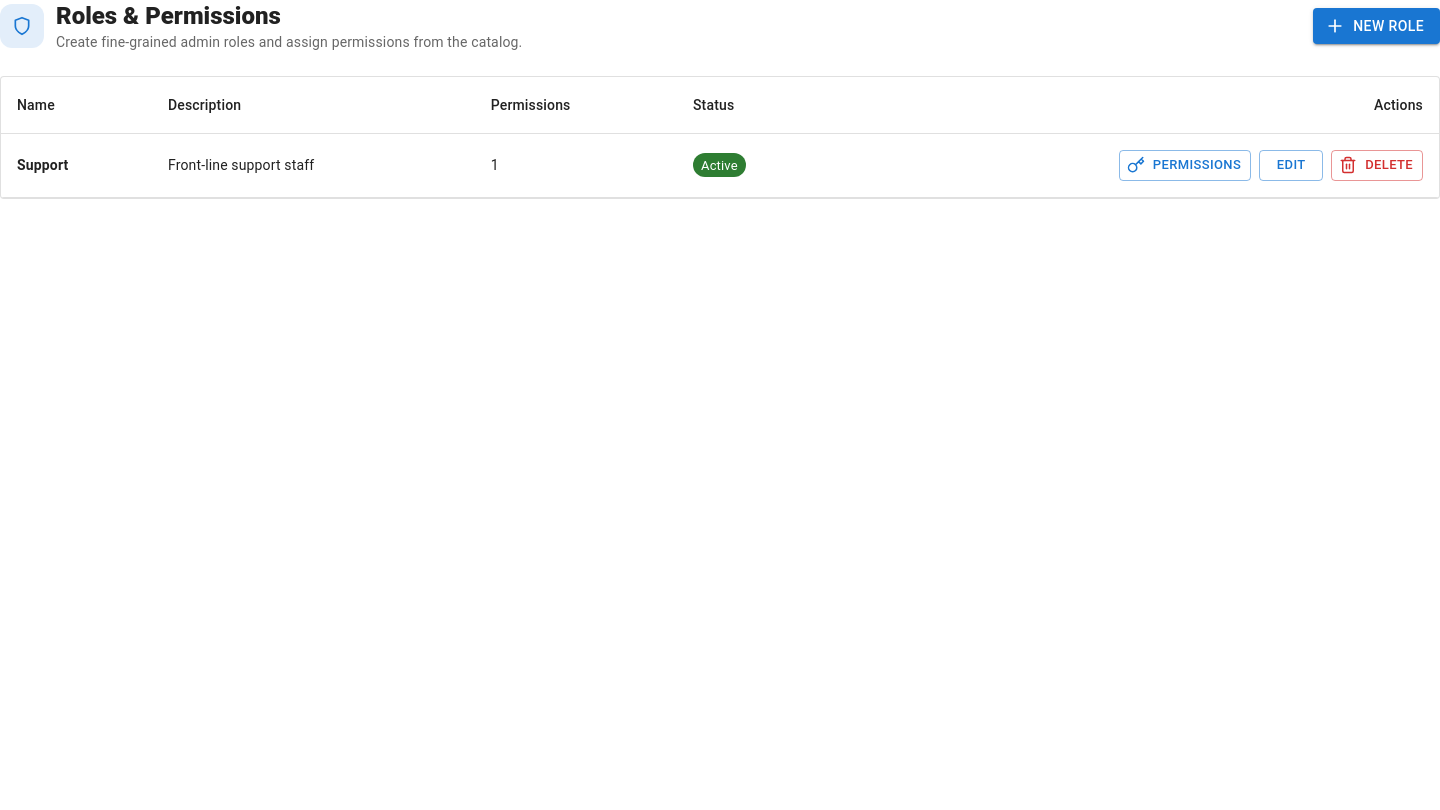
Admin RolesPermissions.page › deletes a role after confirming the dialog
Check: the text "Support" is shown, box [1,134,152,197]
Click the button "Delete" at (1377, 165), box [1331,150,1423,181]
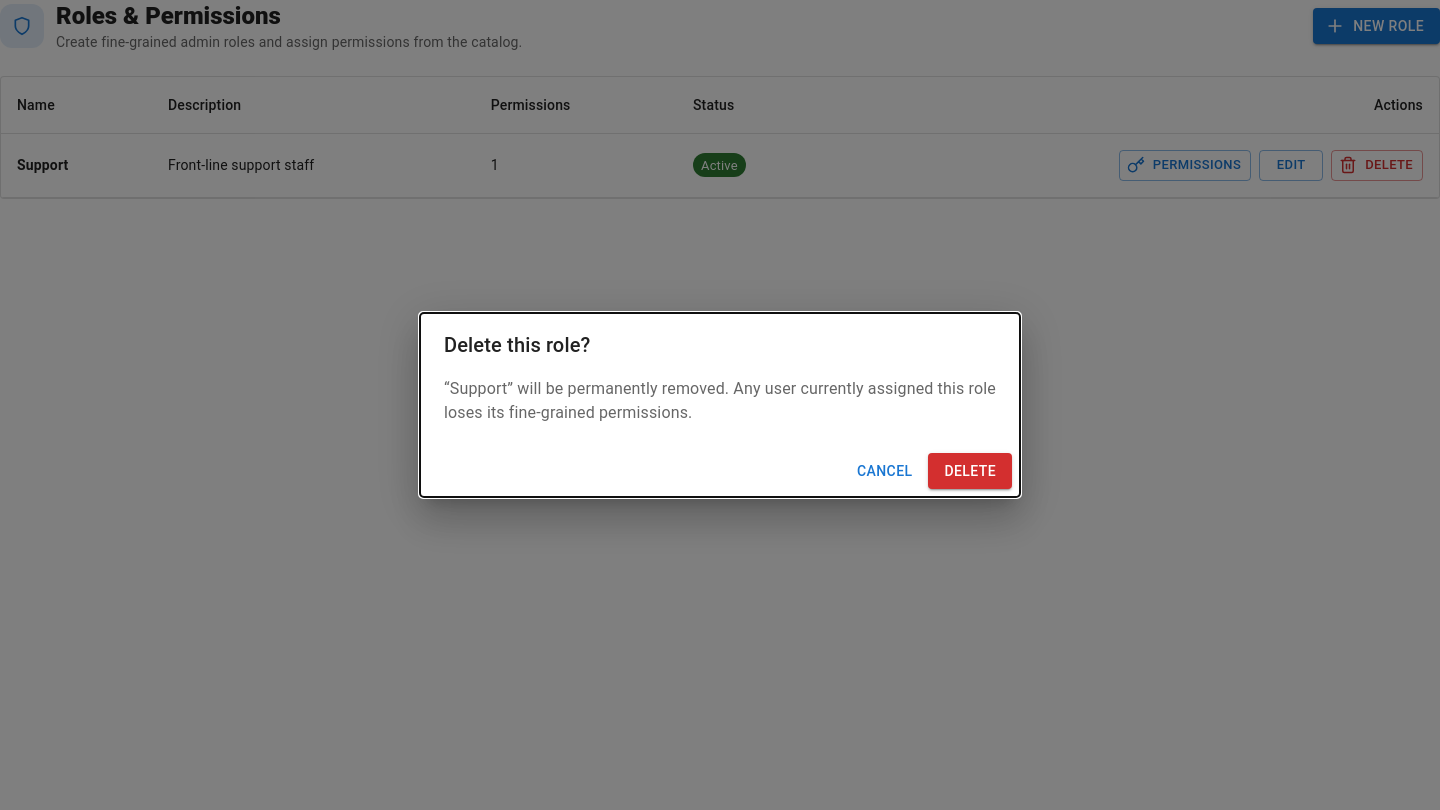
Check: the heading "Delete this role?" is shown, box [444,333,590,357]
Click the button "Delete" at (970, 471), box [928,453,1012,489]
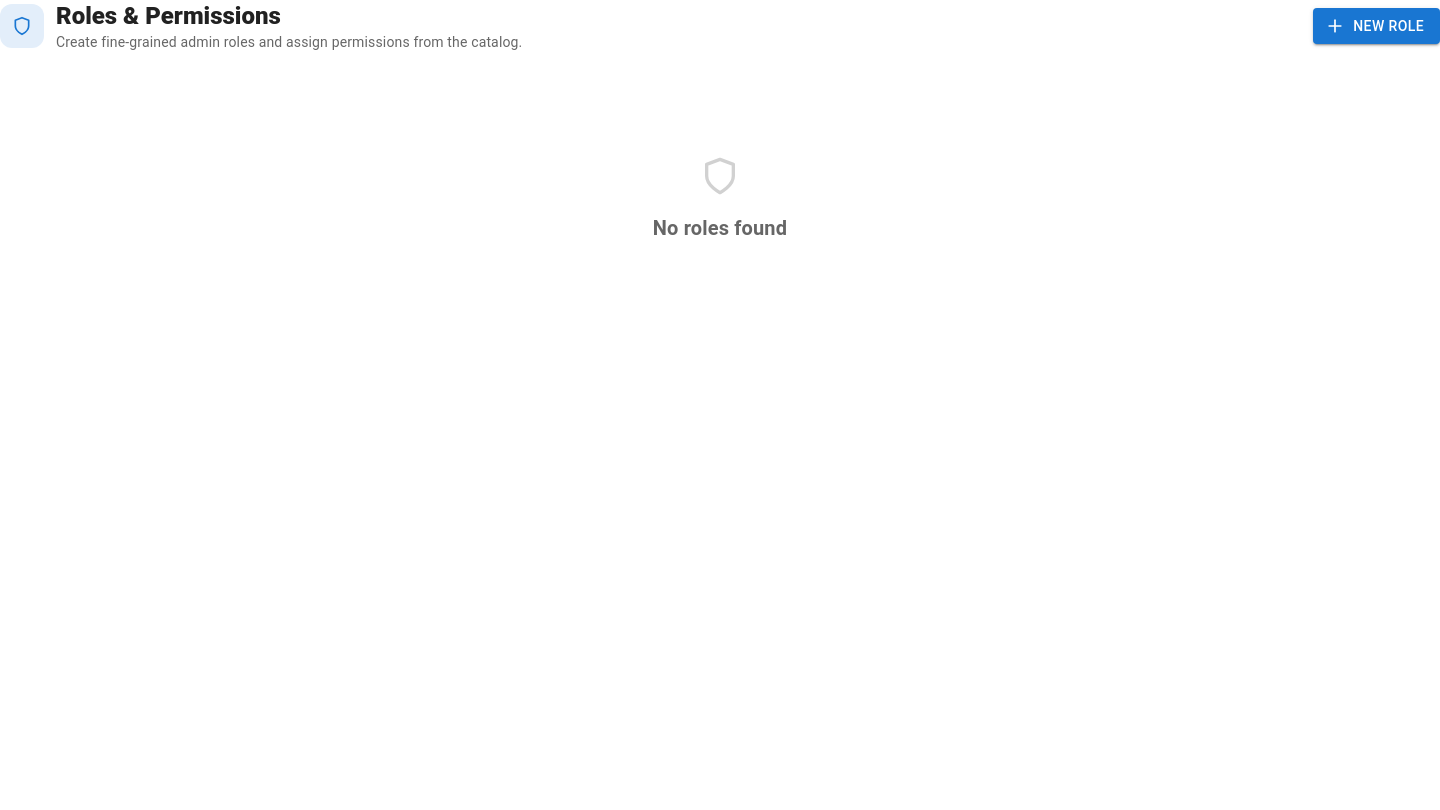
Check: the text "Support" is gone
